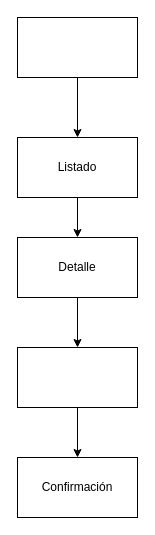
Image size: 155x535. Some labels were removed from this diagram. Here are the shapes that lost their labels. From the top down, the centre of each, then its label:
At (77,47): "Inicio".
At (77,377): "Reserva".
